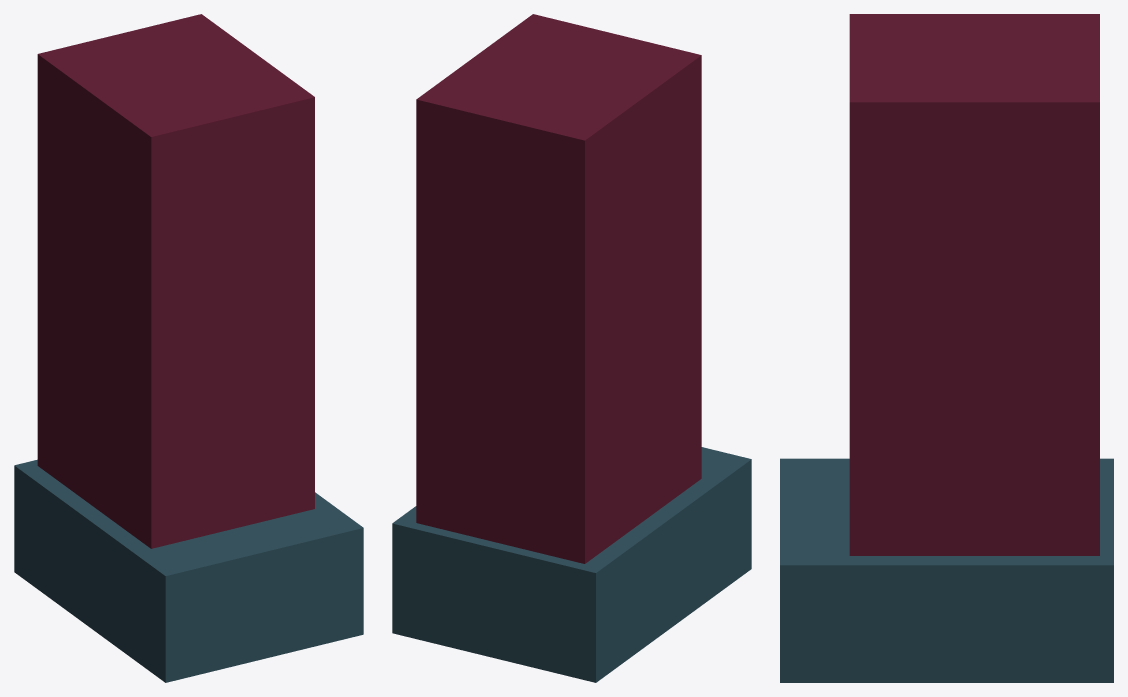
The model's file is cat_leg.glb.
3 views of the same model, side by side, from view 1: azimuth 30°, elevation 25°; view 2: azimuth 150°, elevation 25°; view 3: azimuth 270°, elevation 25° (orthographic). The views are drawn at different scales.
Parts seen in each view (by area): view 1: Leg0; view 2: Leg0; view 3: Leg0.
Boxes of the visible parts, x1,y1,x2,y2 form: Leg0: (14, 14, 363, 682); Leg0: (392, 14, 751, 682); Leg0: (780, 14, 1113, 682).
Bounding box in the file's own units: 0.136 × 0.34 × 0.18.
